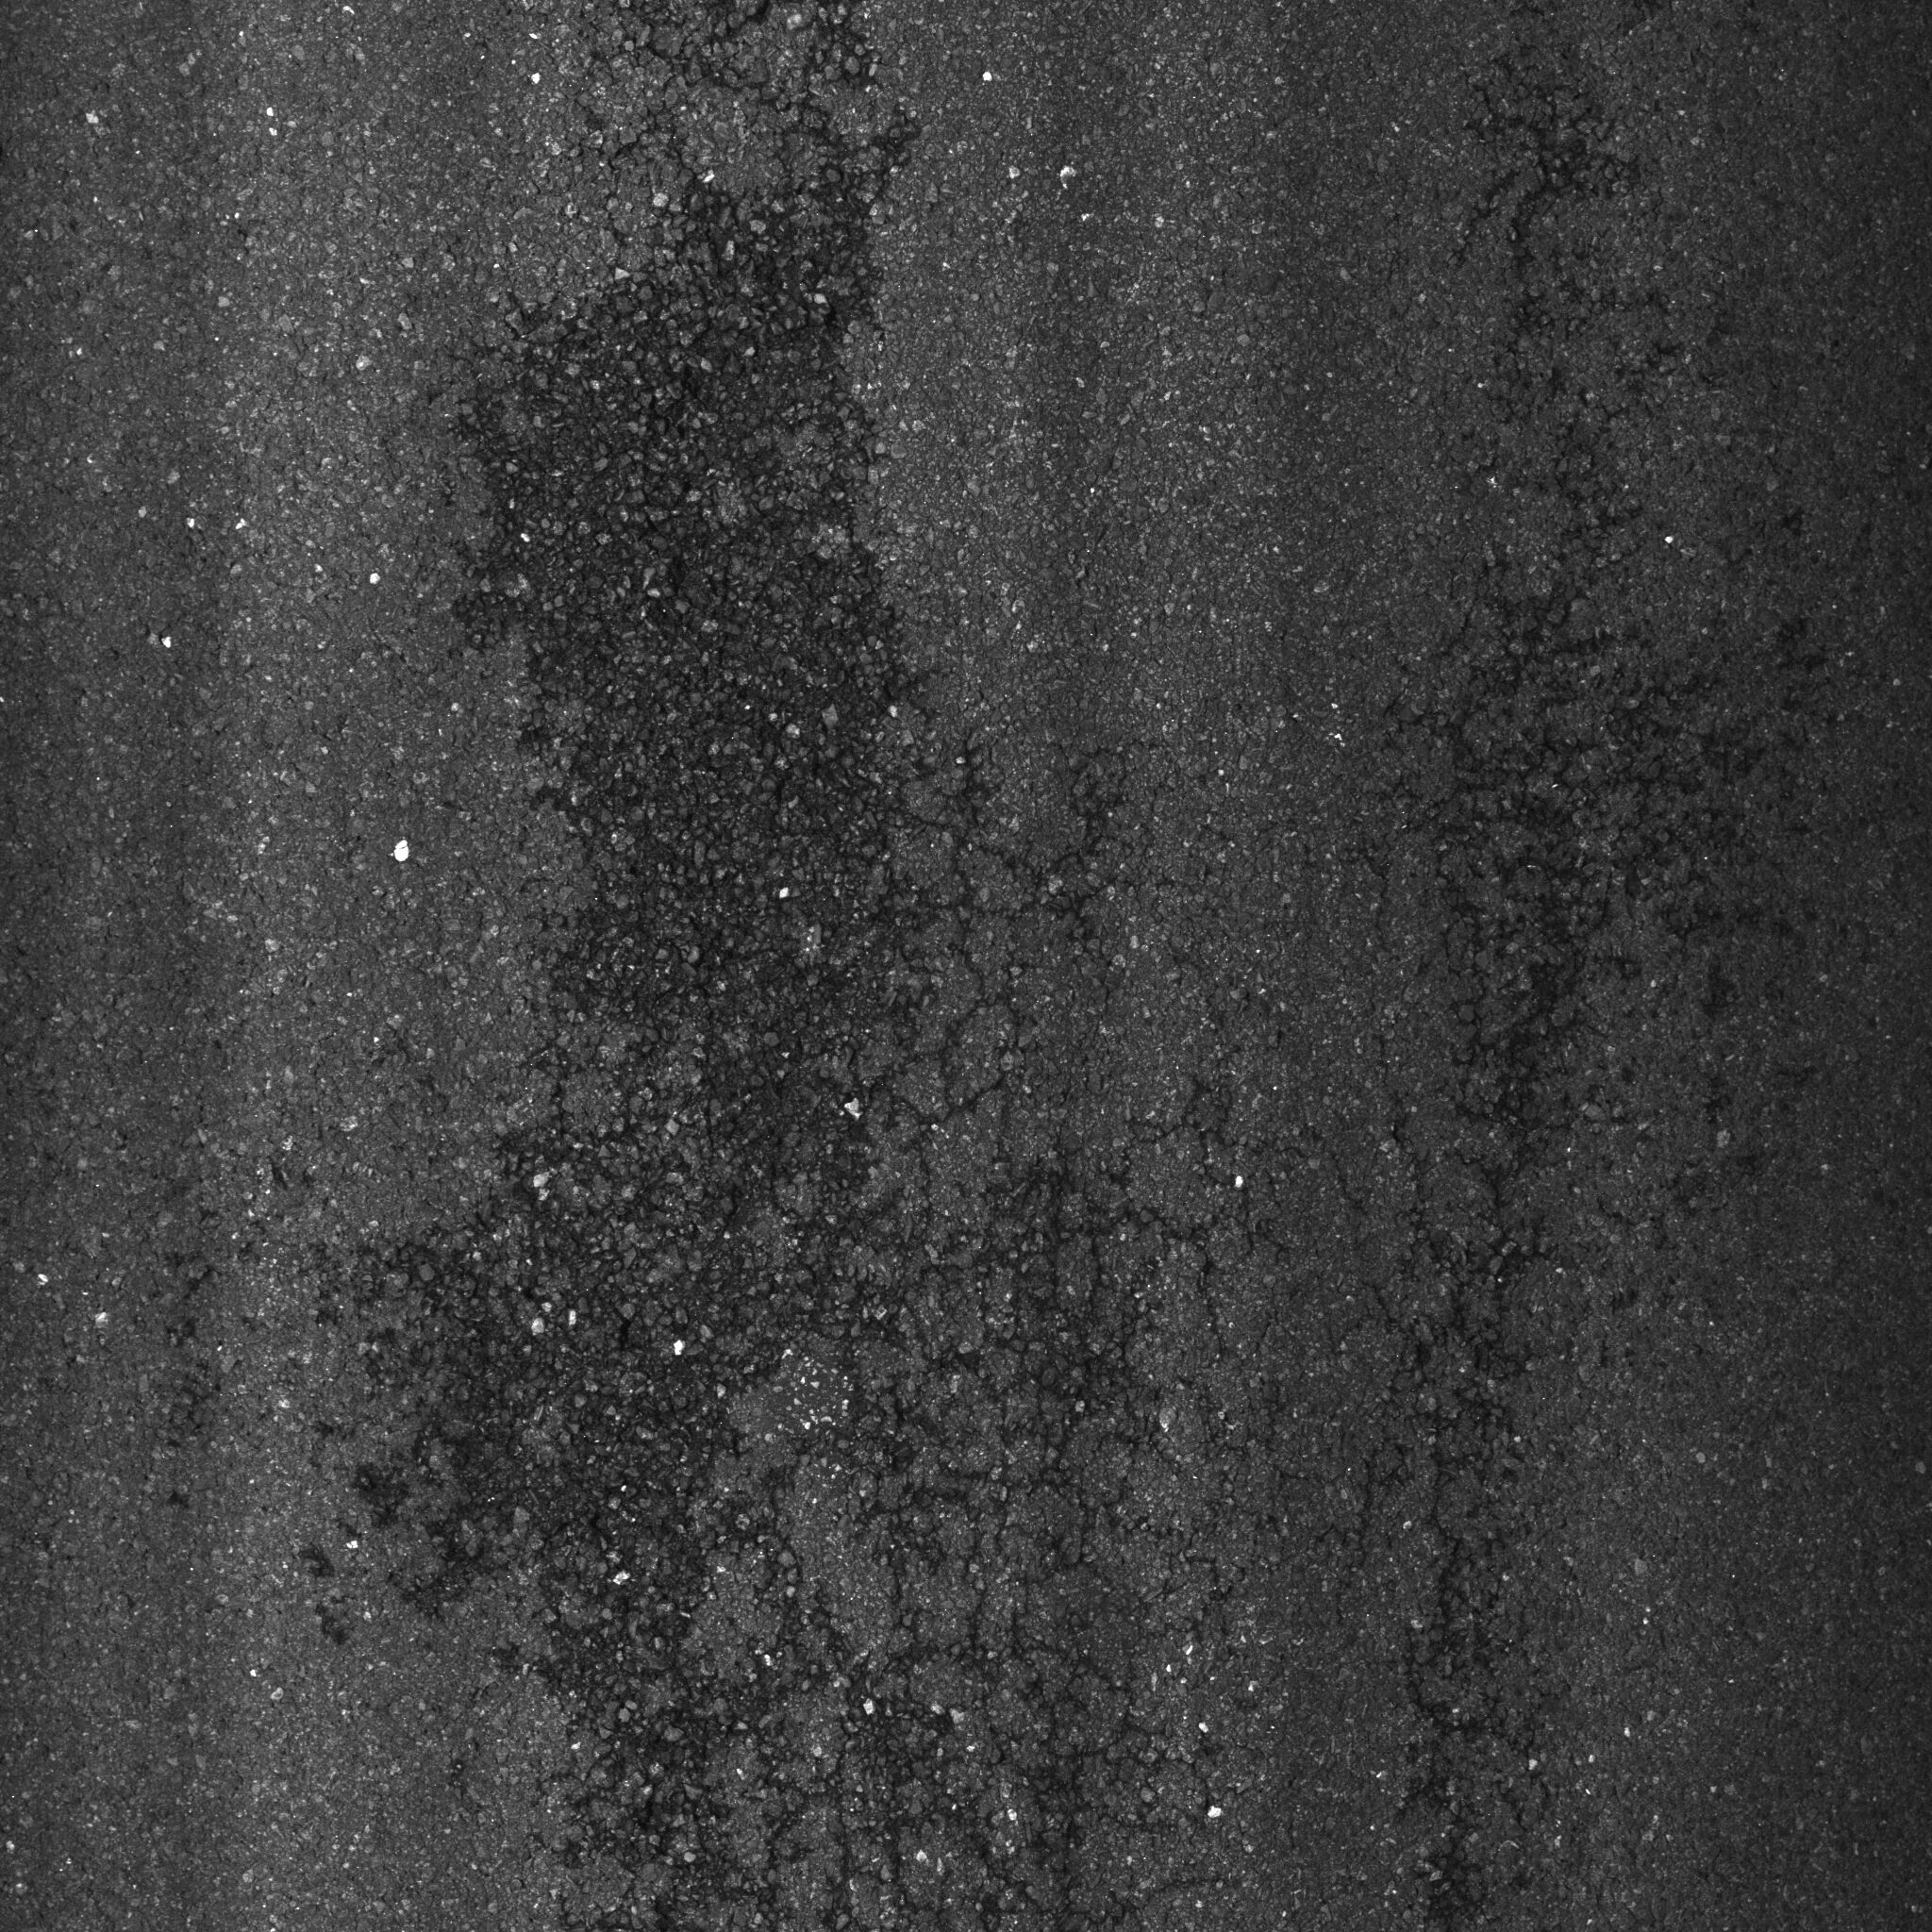alligator: (269, 51, 1702, 1923)
